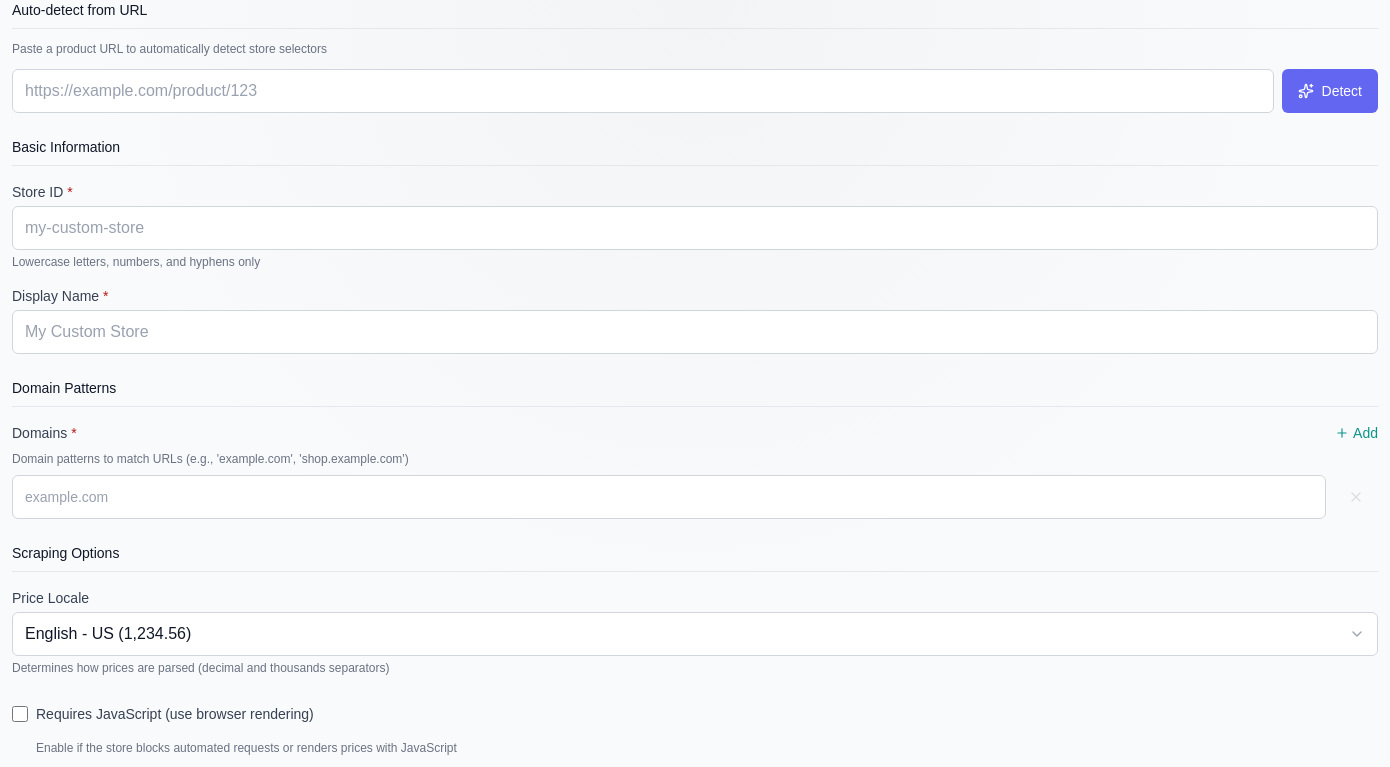
Test: StoreForm › Store ID validation › should show error for Store ID less than 3 characters
In the field labelled "Store ID *": (695, 228) [12,206,1378,250], type "ab"
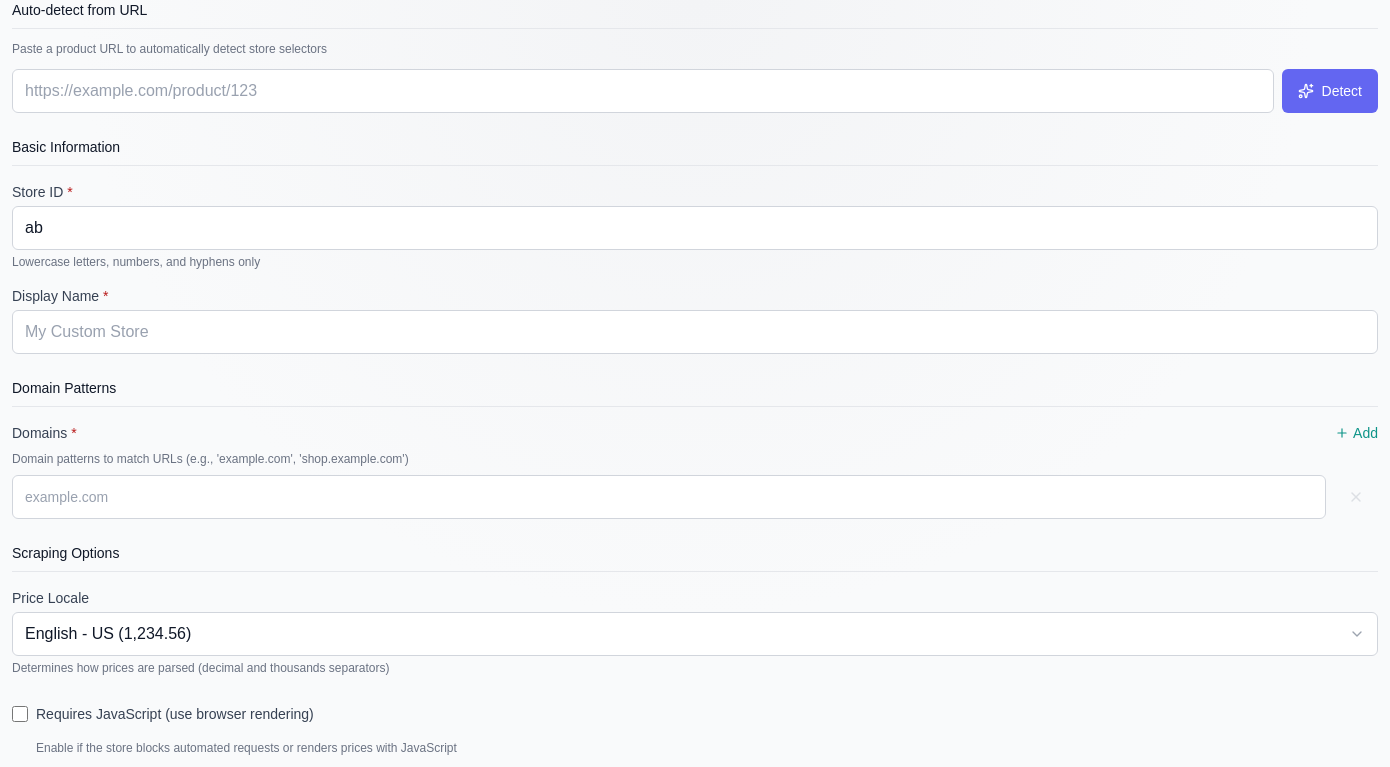
In the field labelled "Display Name *": (695, 332) [12,310,1378,354], type "My Store"
(page scrolled)
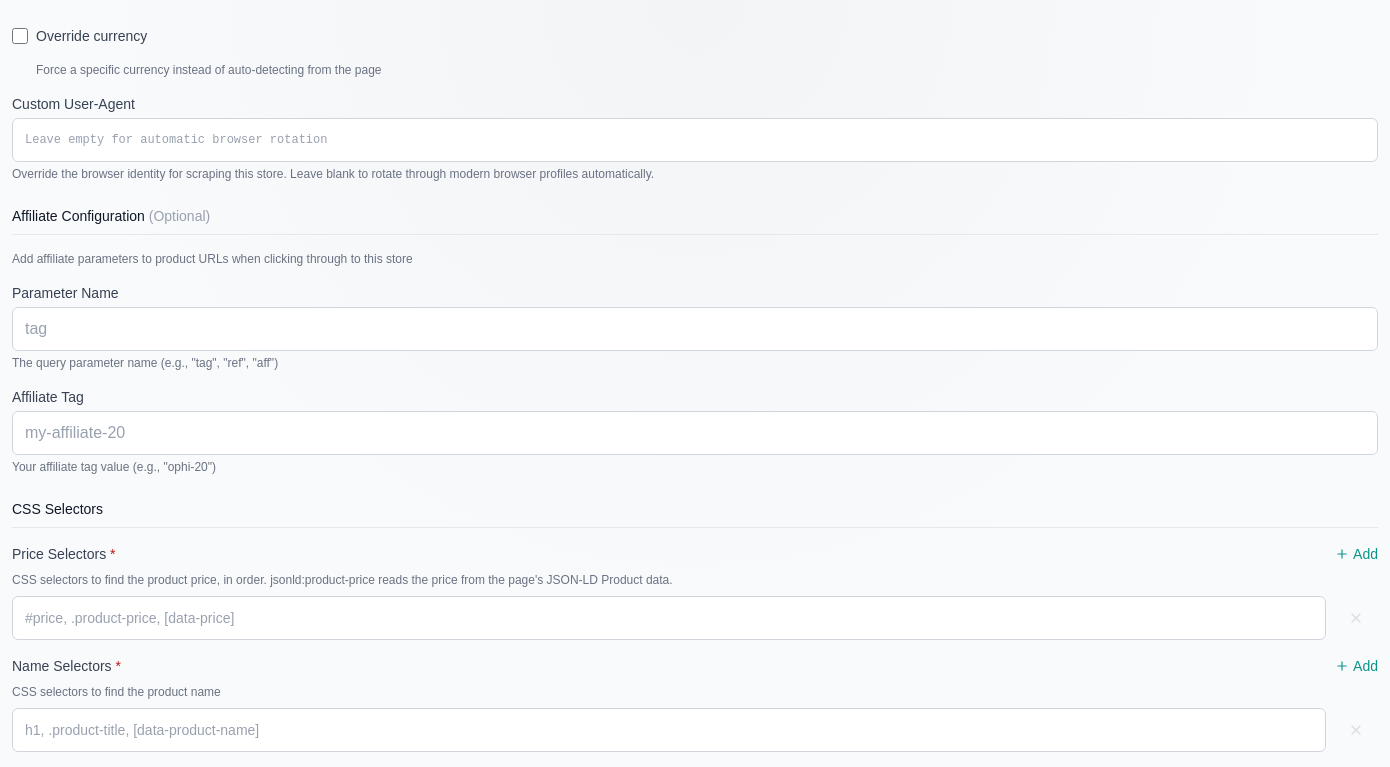
Submit the form named "Create Store"
(page scrolled)
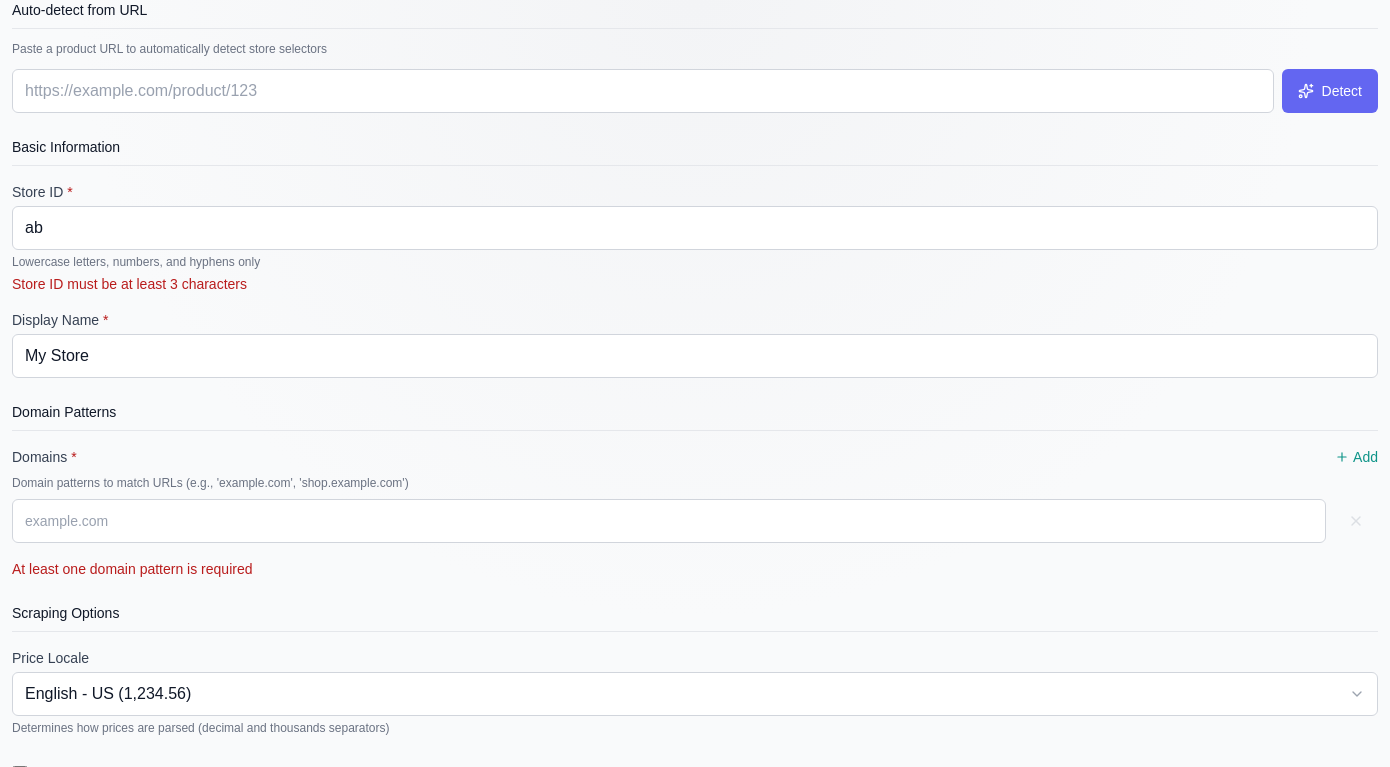
Expected: the text "Store ID must be at least 3 characters" is shown, [12,276,247,292]
